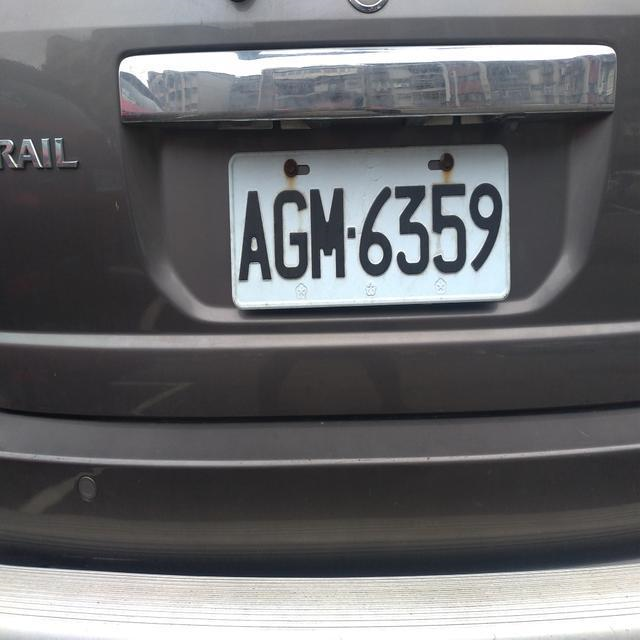license: (231, 153, 510, 301)
